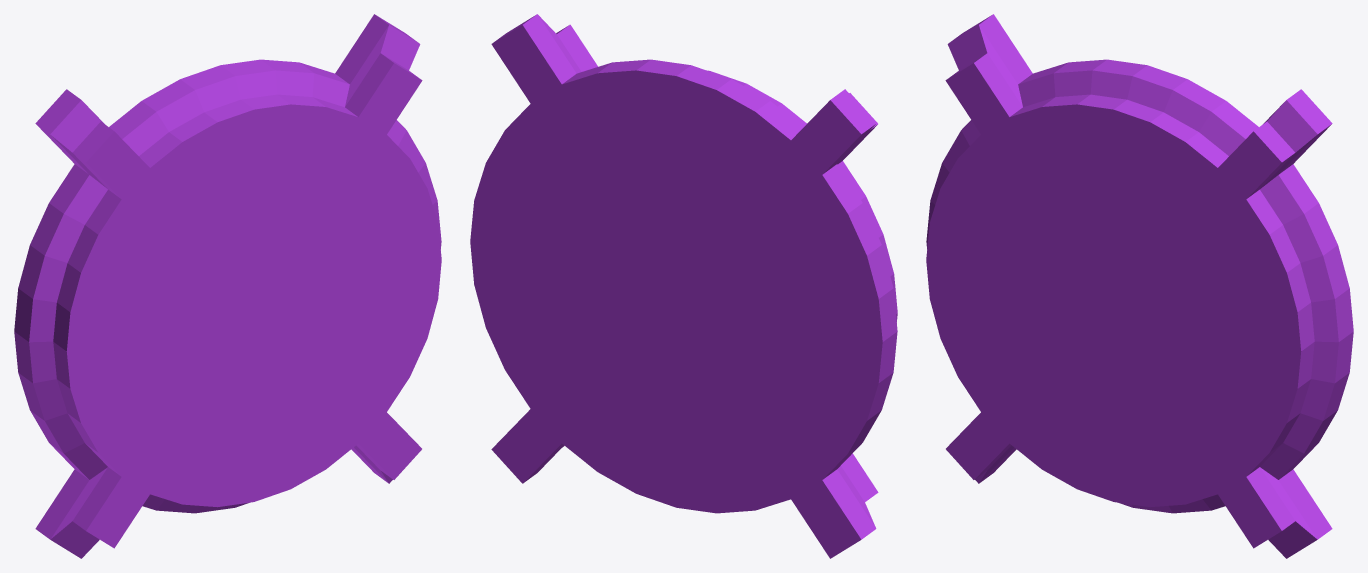
Rendered from target.fbx.
3 views of the same model, side by side, from view 1: azimuth 30°, elevation 25°; view 2: azimuth 150°, elevation 25°; view 3: azimuth 330°, elevation 25° (orthographic).
Visible parts, largest first — view 1: Cylinder; view 2: Cylinder; view 3: Cylinder.
Part boxes in pixels (x1,y1,x2,y2): Cylinder: [14, 14, 441, 558]; Cylinder: [470, 14, 897, 558]; Cylinder: [926, 14, 1353, 558].
Bounding box in the file's own units: 220 × 234 × 31.25.
